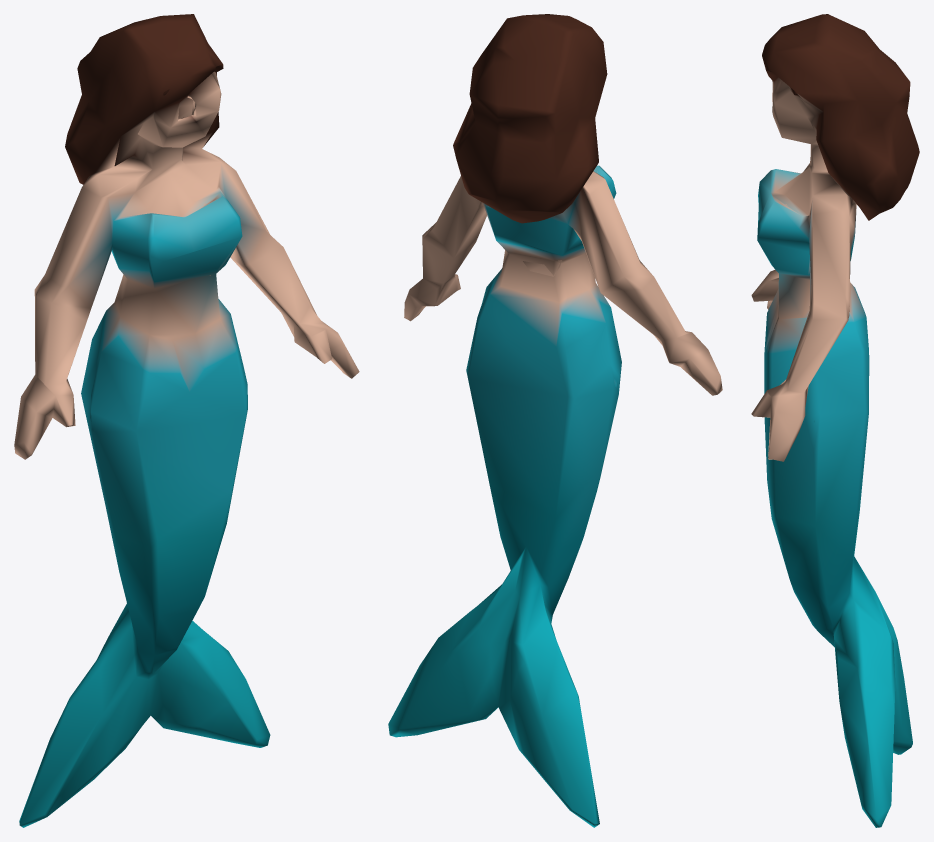
Rendered from gen3d-mermaid-lod1.glb.
The picture shows the model from 3 angles, left to right: view 1: azimuth 30°, elevation 25°; view 2: azimuth 150°, elevation 25°; view 3: azimuth 270°, elevation 25°; orthographic projection. The views are drawn at different scales.
Parts seen in each view (by area): view 1: part_0; view 2: part_0; view 3: part_0.
Boxes of the visible parts, x1,y1,x2,y2 form: part_0: [14, 14, 359, 827]; part_0: [388, 14, 722, 827]; part_0: [751, 14, 919, 827].
Size of the model in its own units: 0.4318 by 0.9977 by 0.1972.
